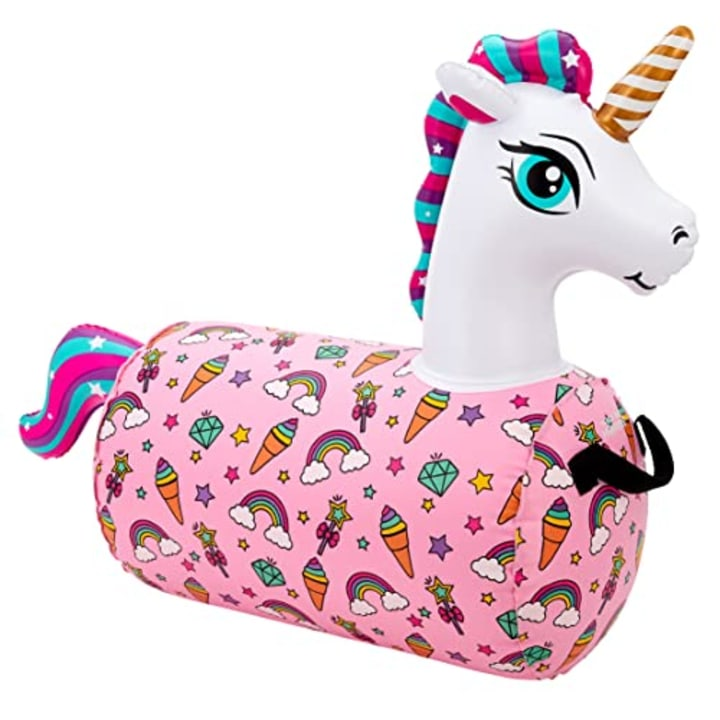toy: (87, 13, 698, 670)
